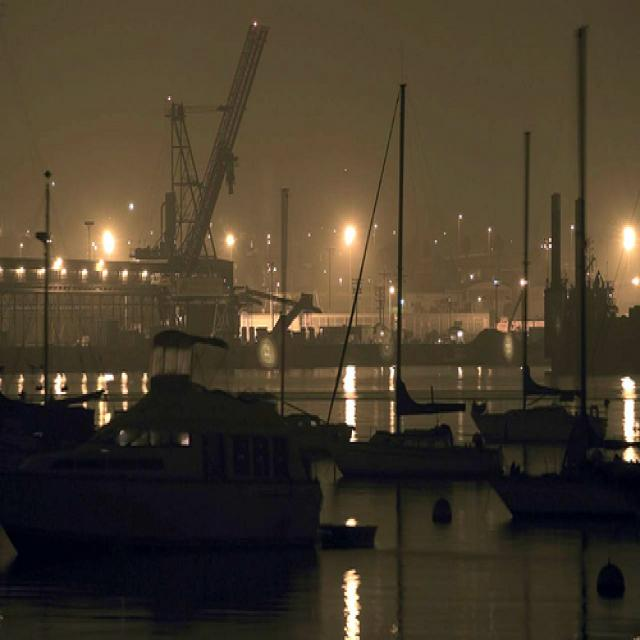Boat: (0, 311, 338, 618), (305, 86, 495, 546), (483, 142, 594, 435), (489, 437, 640, 540)
